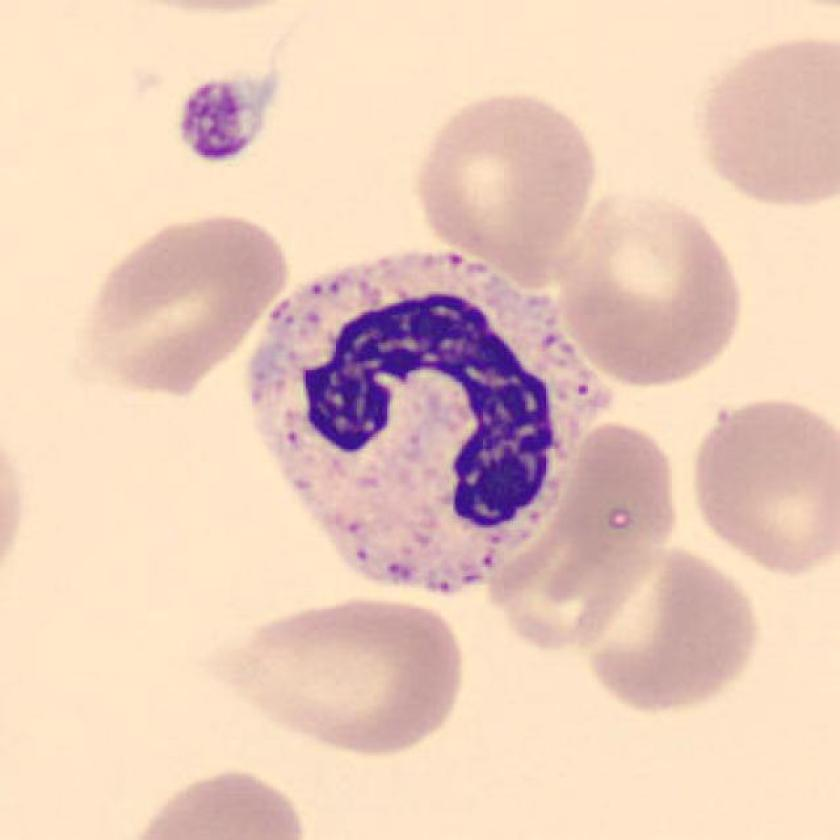neutrophil: (248, 247, 607, 591)
